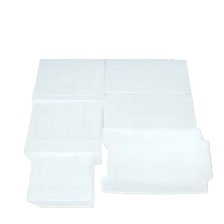foam_box: (97, 123, 217, 199), (97, 92, 207, 154), (19, 99, 107, 167), (21, 152, 99, 213), (101, 56, 194, 104), (27, 54, 109, 107)
